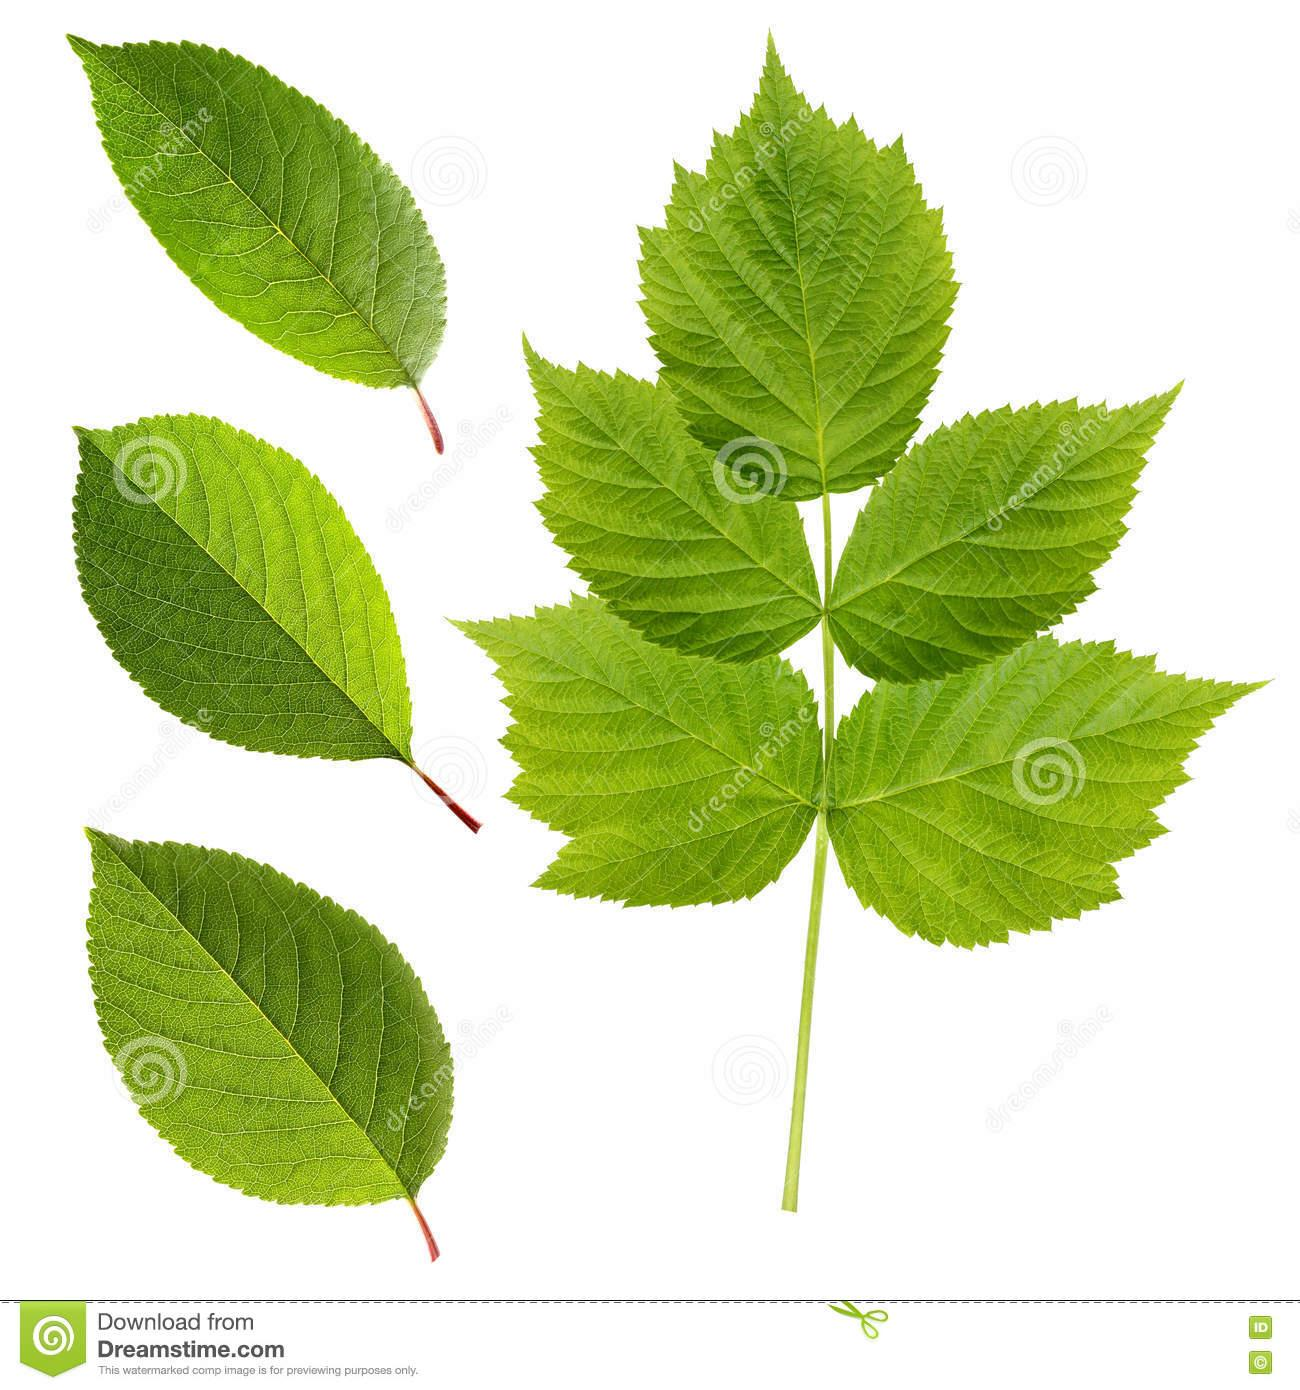Raspberry leaf: (641, 27, 962, 508), (826, 625, 1268, 953), (442, 609, 828, 910), (828, 380, 1181, 688), (520, 343, 826, 661)
